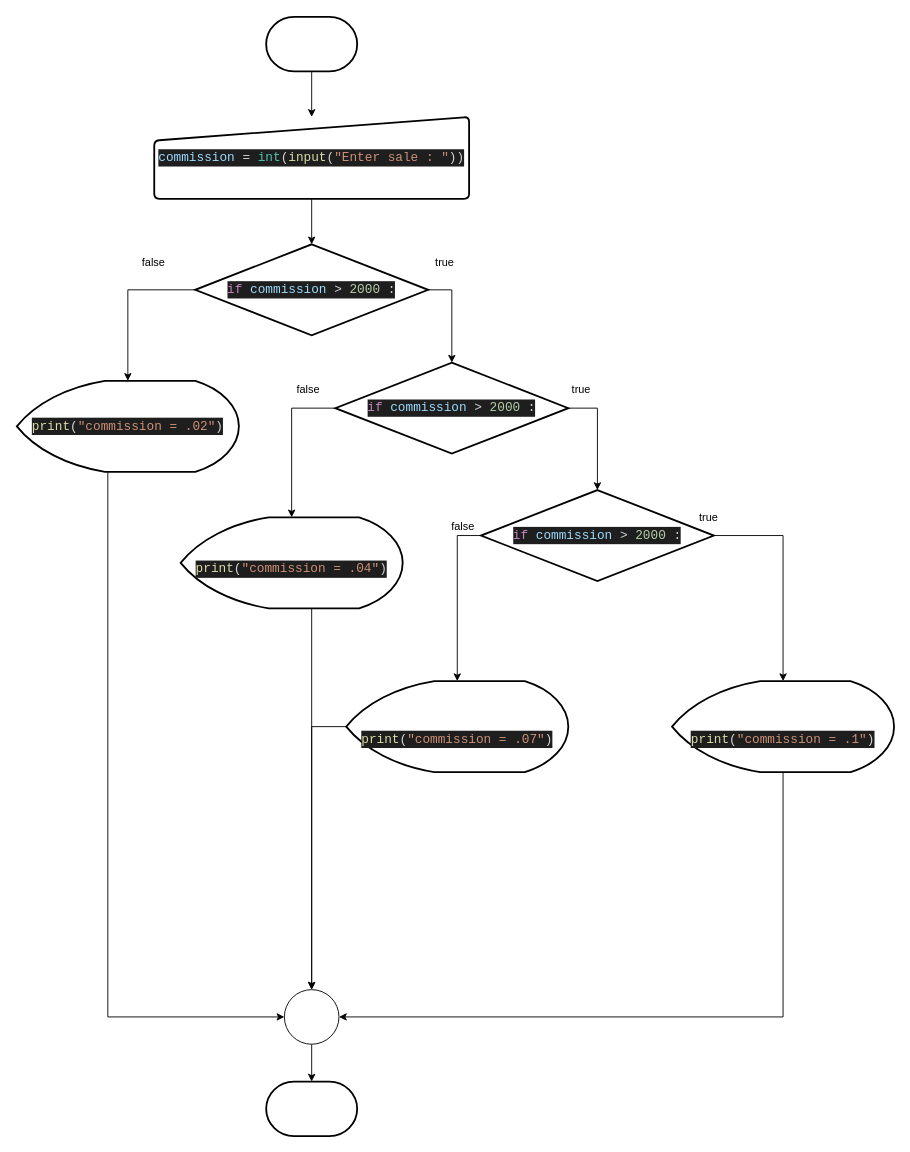
This 910x1152 diagram has some shape labels left out. Each missing label, with the centre of its shape:
"end" belongs at [311,1108].
"start" belongs at [311,43].
